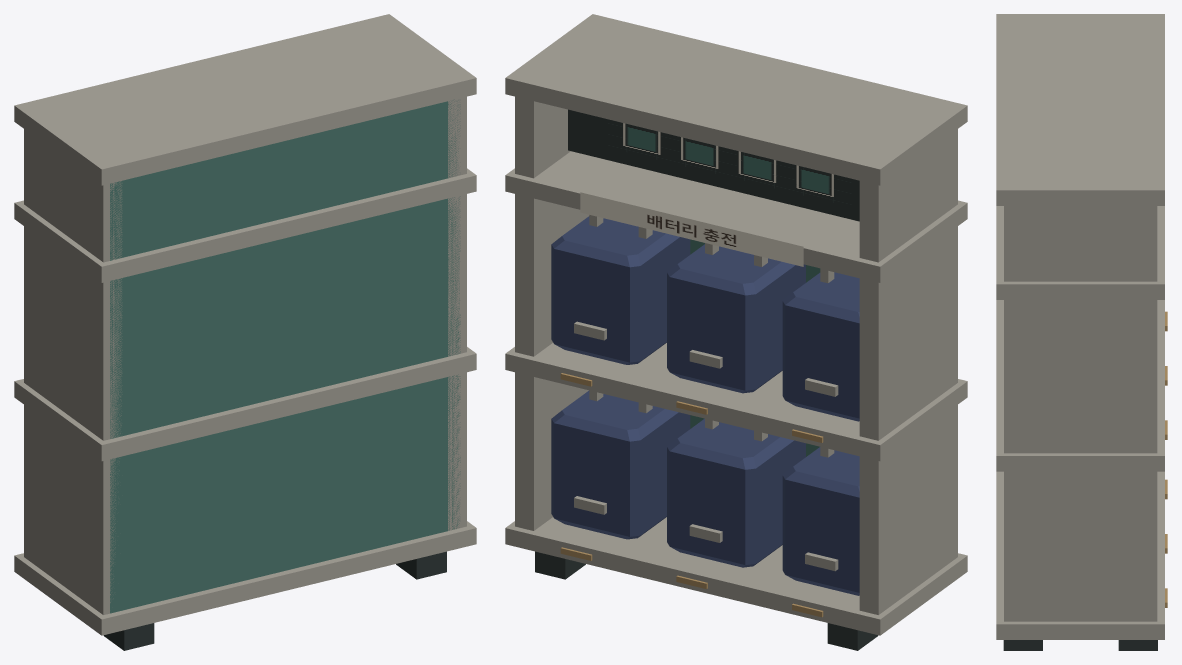
The model's file is T07_Battery_Charging_Cabinet.fbx.
3 views of the same model, side by side, from view 1: azimuth 30°, elevation 25°; view 2: azimuth 150°, elevation 25°; view 3: azimuth 270°, elevation 25° (orthographic). The views are drawn at different scales.
Visible parts, largest first — view 1: Structure; view 2: Structure, Battery_06, Battery_05, Battery_03, Battery_02, Battery_04, Battery_01, Charge_Display, Title; view 3: Structure.
Part boxes in pixels (x1,y1,x2,y2): Structure: (14,14,476,650); Structure: (505,14,967,650); Battery_06: (551,215,690,364); Battery_05: (667,243,805,393); Battery_03: (551,390,690,539); Battery_02: (667,418,805,567); Battery_04: (782,268,859,421); Battery_01: (782,447,859,595); Charge_Display: (599,117,859,212); Title: (580,192,803,266); Structure: (996,14,1167,650).
Bounding box in the file's own units: 2 × 2.5 × 0.82.
Materials: 6 (1 with a texture image).
